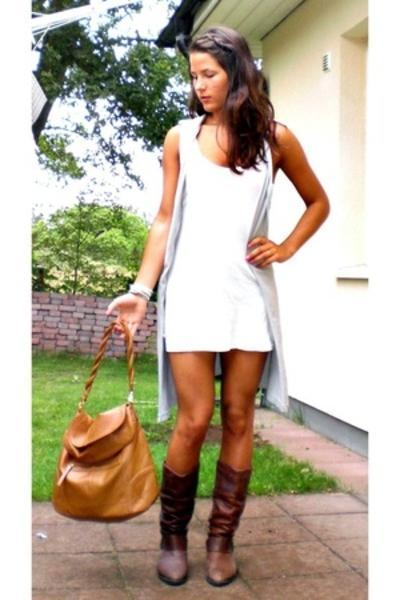bag: (51, 301, 161, 523)
dress: (157, 114, 271, 371)
shoe: (157, 458, 250, 586)
